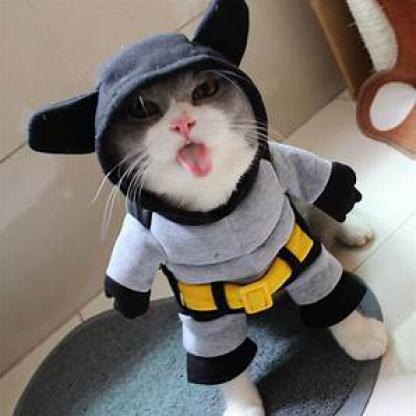cat: (105, 68, 261, 215)
